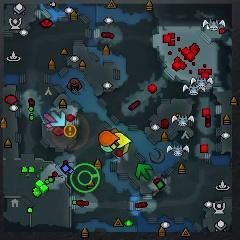p2: (101, 144, 114, 152)
p4: (113, 132, 132, 148)
p5: (99, 130, 120, 146)
x1: (42, 112, 57, 128)
x2: (123, 143, 130, 154)
x3: (51, 111, 66, 127)
x4: (135, 163, 153, 181)
x5: (110, 128, 119, 133)
